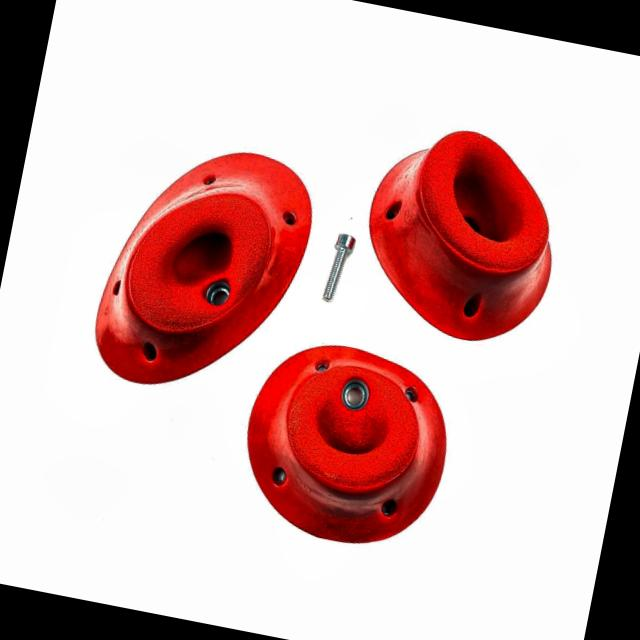Hold: (91, 132, 322, 408), (354, 114, 582, 359), (227, 326, 462, 559)
